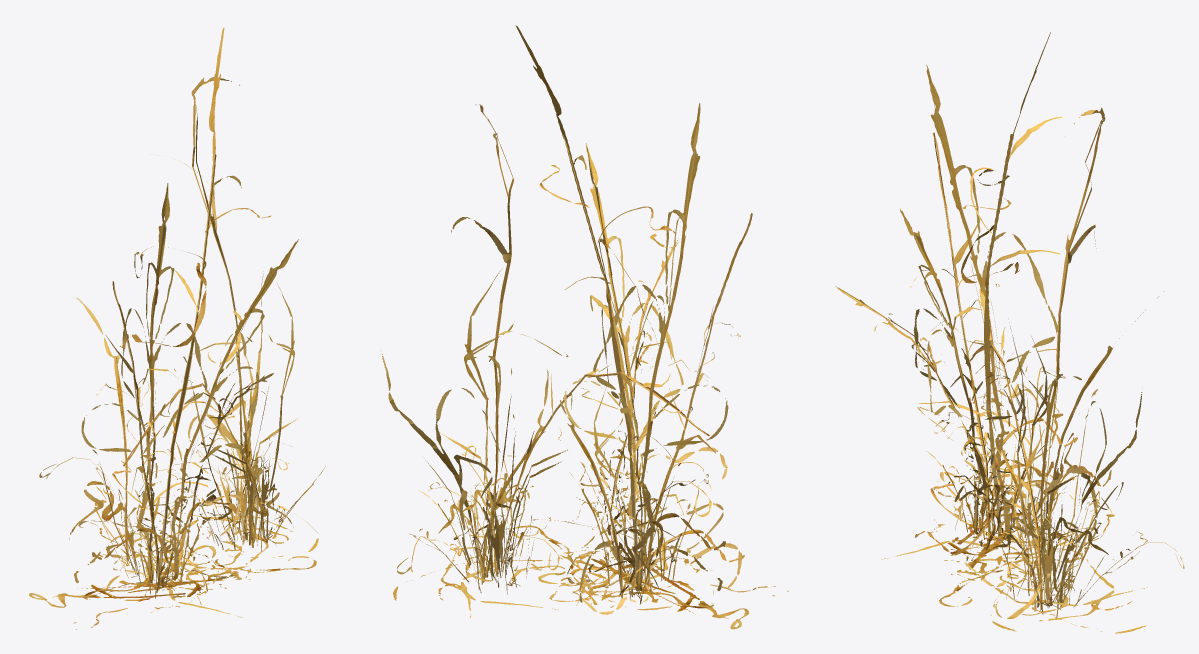
The model's file is bugday_lod1.glb.
3 views of the same model, side by side, from view 1: azimuth 30°, elevation 25°; view 2: azimuth 150°, elevation 25°; view 3: azimuth 270°, elevation 25° (orthographic). The views are drawn at different scales.
Visible parts, largest first — view 1: bugday_lod1; view 2: bugday_lod1; view 3: bugday_lod1.
Part boxes in pixels (left/top/right/bottom): bugday_lod1: left=29, top=27, right=325, bottom=629; bugday_lod1: left=380, top=25, right=788, bottom=629; bugday_lod1: left=835, top=32, right=1184, bottom=633.
Size of the model in its own units: 0.5828 by 1 by 0.5427.
1 material, 1 textured.
